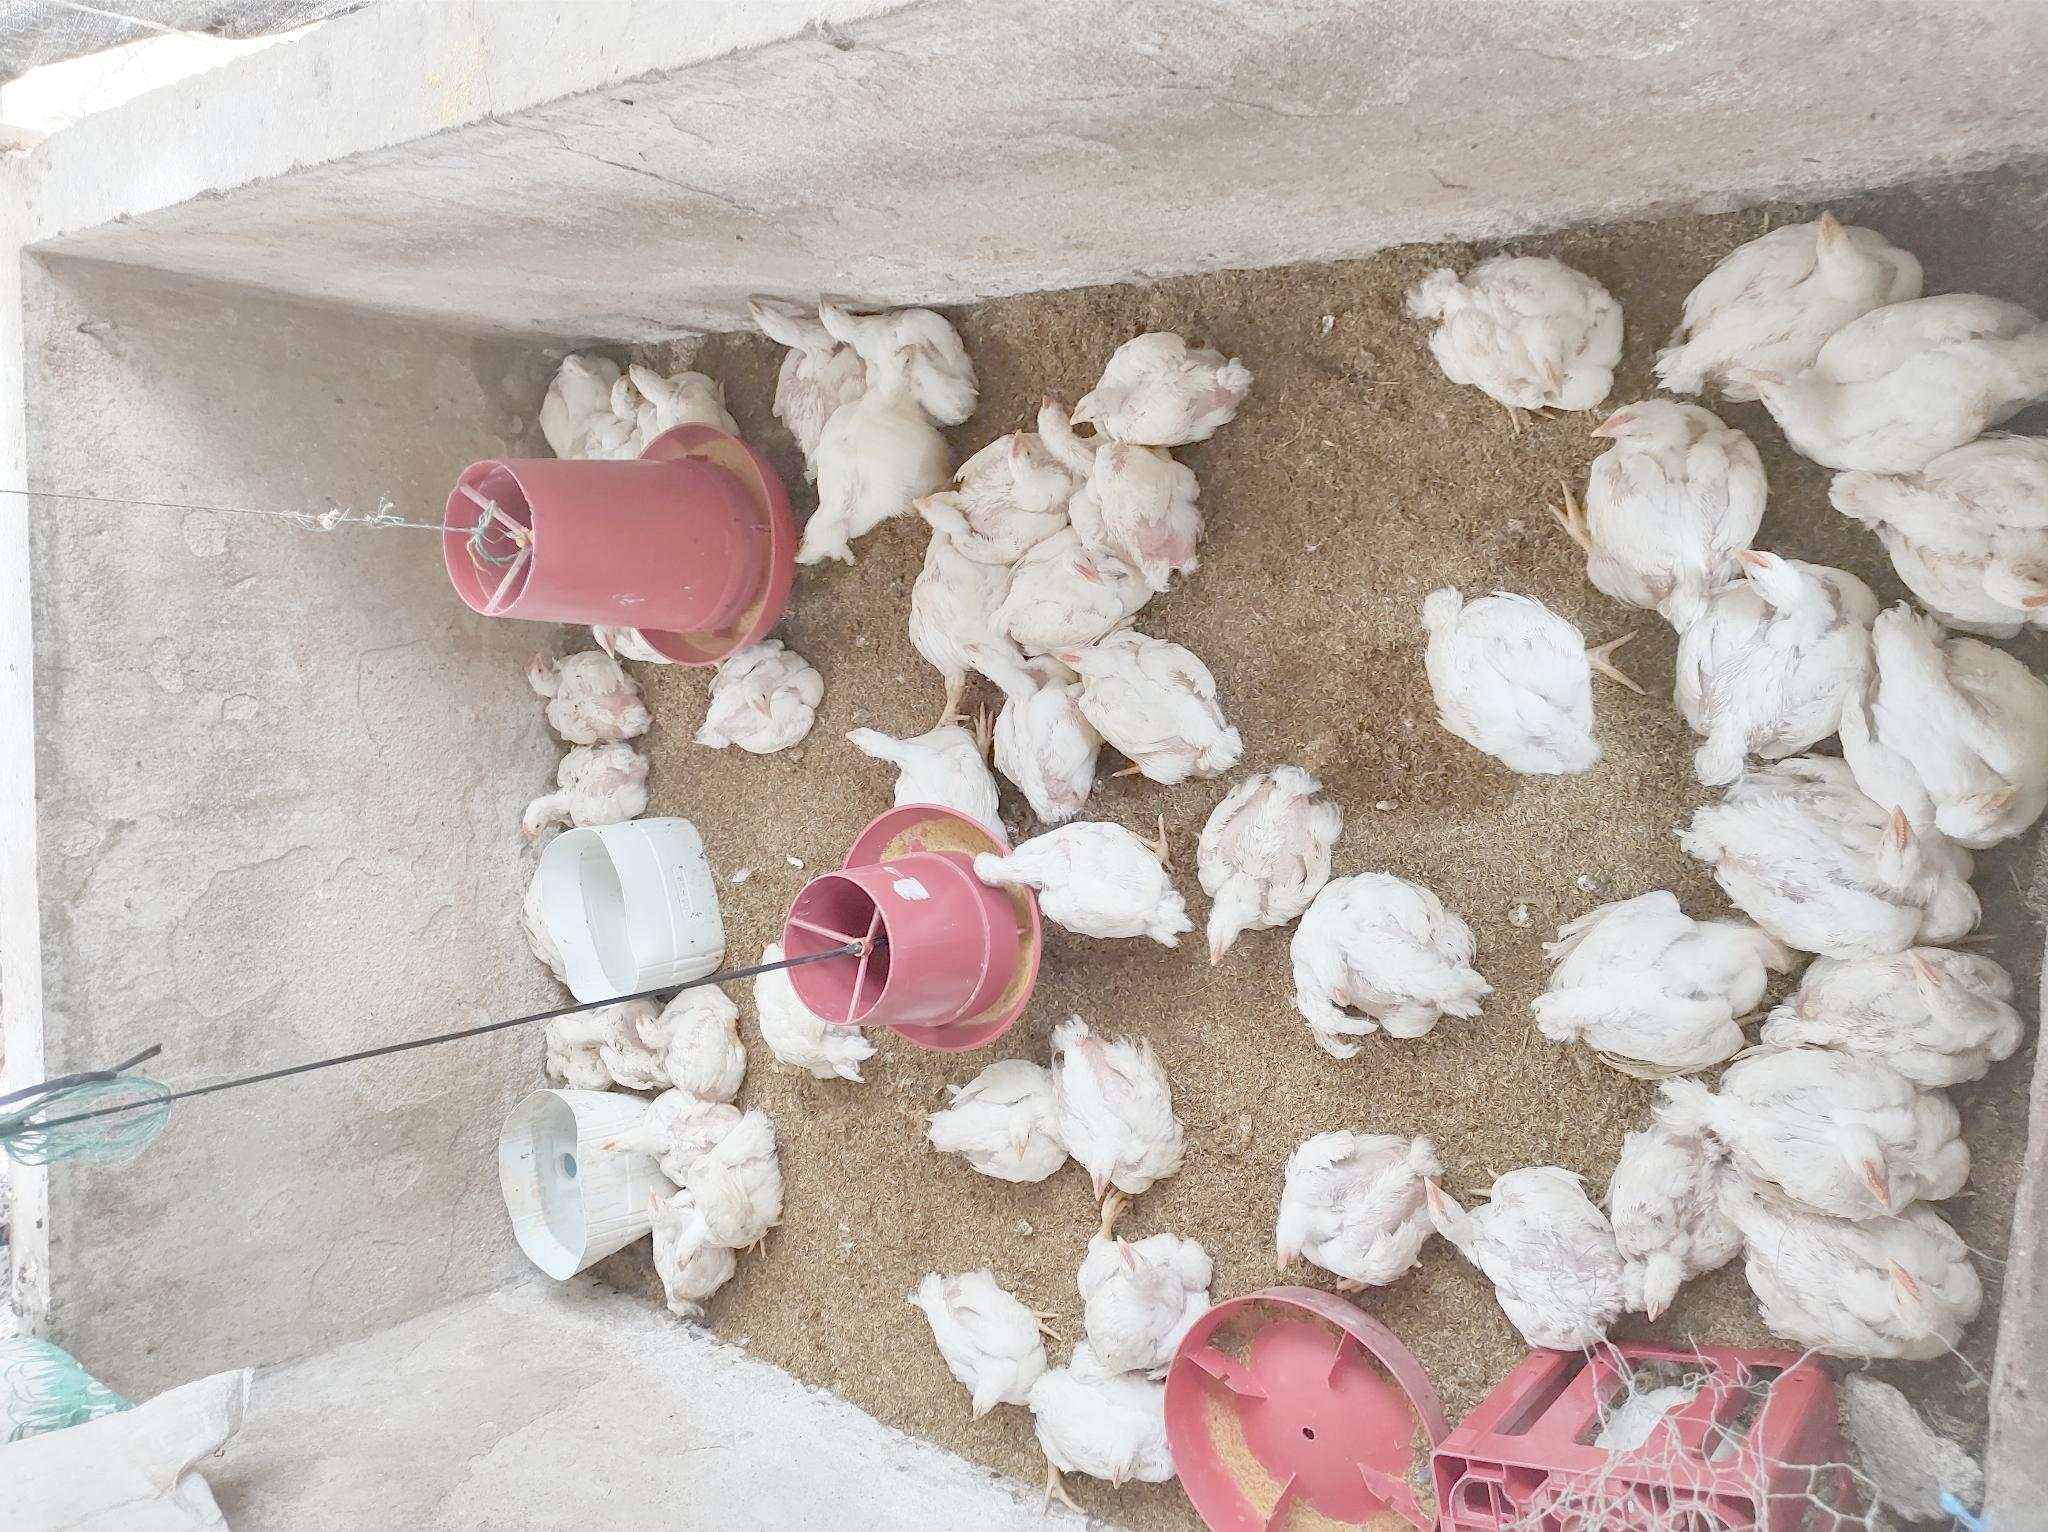Pollos: (1729, 294, 2048, 483), (1689, 756, 1977, 957), (1646, 187, 1921, 394), (1680, 1040, 1998, 1217), (1720, 1168, 1982, 1368), (1845, 605, 2048, 851), (1672, 534, 1874, 776), (1813, 430, 2048, 636), (1536, 883, 1771, 1077), (1572, 397, 1766, 629), (1409, 1160, 1636, 1357), (1289, 866, 1491, 1062), (1409, 583, 1607, 777), (792, 336, 948, 571), (1406, 246, 1623, 410), (1792, 927, 2022, 1081), (1602, 1096, 1755, 1328), (1033, 389, 1207, 584), (972, 819, 1211, 954), (1194, 768, 1353, 970), (1268, 1122, 1448, 1292), (1051, 629, 1248, 784), (1043, 1011, 1199, 1204), (956, 629, 1112, 814), (1014, 1350, 1182, 1505), (1062, 327, 1261, 451), (973, 523, 1173, 644), (899, 1266, 1047, 1427), (816, 283, 980, 422), (837, 716, 1012, 843), (1076, 1226, 1216, 1381), (740, 293, 866, 459), (676, 1107, 790, 1276), (750, 933, 878, 1081), (935, 436, 1084, 558), (928, 1062, 1070, 1184), (898, 492, 988, 682), (631, 982, 750, 1104), (682, 640, 819, 747), (523, 732, 648, 846), (602, 1088, 748, 1183), (640, 1180, 738, 1312), (521, 650, 655, 742), (549, 1003, 681, 1086), (537, 352, 631, 454), (626, 360, 738, 439), (578, 369, 656, 460)
